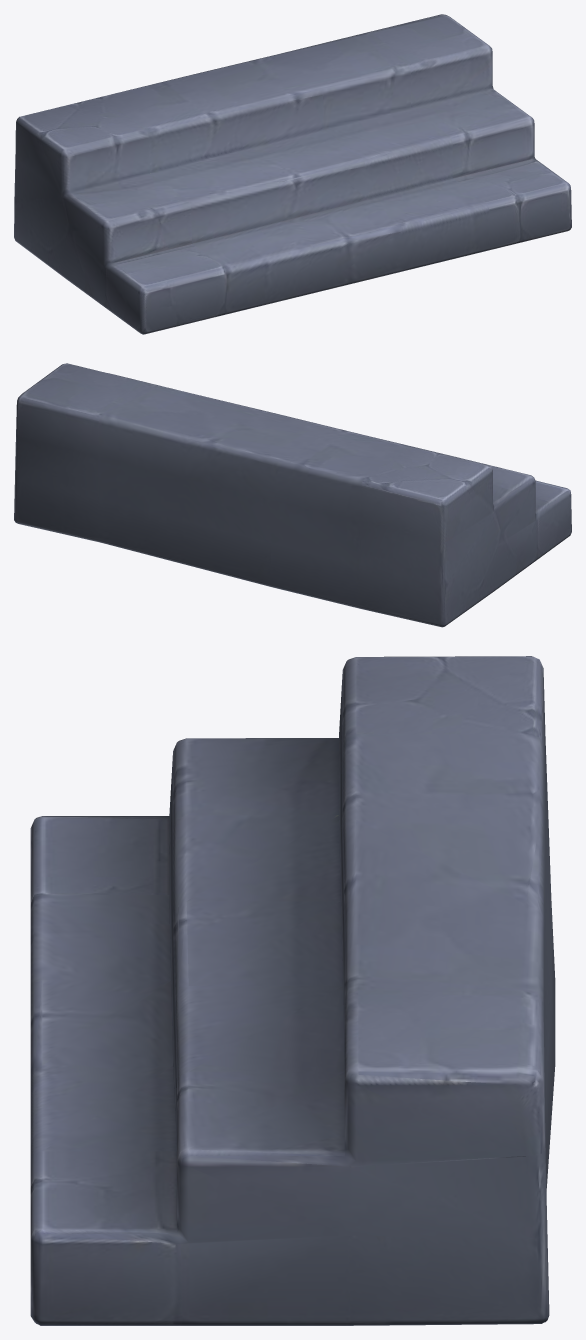
File: stone_stairs.glb
The picture shows the model from 3 angles, top to bottom: view 1: azimuth 30°, elevation 25°; view 2: azimuth 150°, elevation 25°; view 3: azimuth 270°, elevation 25°; orthographic projection. The views are drawn at different scales.
Parts seen in each view (by area): view 1: tripo_node_1f568594-8f9a-4788-ad59-48318522d16a; view 2: tripo_node_1f568594-8f9a-4788-ad59-48318522d16a; view 3: tripo_node_1f568594-8f9a-4788-ad59-48318522d16a.
Boxes of the visible parts, box(x1,y1,x2,y2) form: tripo_node_1f568594-8f9a-4788-ad59-48318522d16a: box(14, 14, 571, 334); tripo_node_1f568594-8f9a-4788-ad59-48318522d16a: box(14, 363, 571, 627); tripo_node_1f568594-8f9a-4788-ad59-48318522d16a: box(30, 656, 555, 1325).
Size of the model in its own units: 0.998 by 0.2832 by 0.5254.
Materials: 1 (1 with a texture image).
